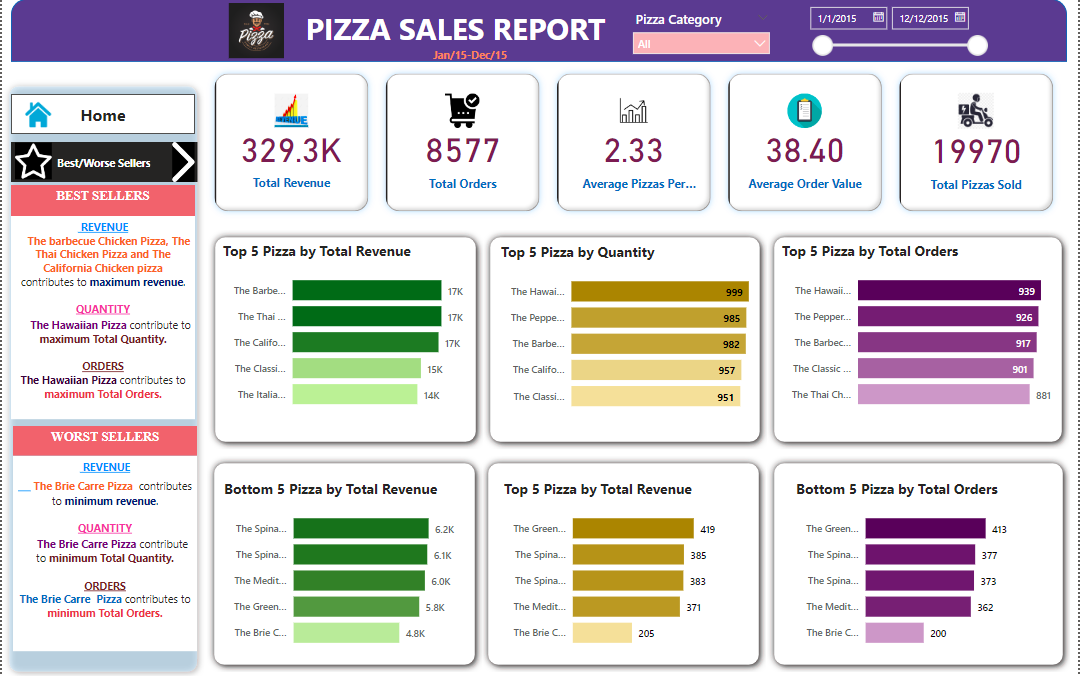

This screenshot's page, from the dashboard's own definition file:
{"tool":"powerbi","page":{"name":"Best/Worse Sellers","canvas":[1345,850],"ordinal":1},"visuals":[{"type":"cardVisual","fields":{"Data":["Measure Table.Total Revenue","Measure Table.Total Orders","Measure Table.Average Pizzas Per Order","Measure Table.Average Order Value","Measure Table.Total Pizzas Sold"]},"box":[248.6,75.7,1082.9,204.3],"z":0},{"type":"shape","box":[11.4,0,1320,78.6],"z":1000},{"type":"textbox","box":[344,6,446,66],"z":2000},{"type":"textbox","box":[521.4,55.7,127.1,38.6],"z":3000},{"type":"image","box":[272.9,0,91.4,78.6],"z":4000},{"type":"shape","box":[0,100,252.9,750],"z":5000},{"type":"shape","box":[257.1,288.6,344.3,257.1],"z":6000},{"type":"shape","box":[601.4,285.7,354.3,257.1],"z":7000},{"type":"shape","box":[955.7,285.7,378.6,257.1],"z":8000},{"type":"textbox","box":[11.4,232.9,230,38.6],"z":9000},{"type":"textbox","box":[11.4,271.4,230,254.3],"z":10000},{"type":"textbox","box":[14.3,534.3,230,37.1],"z":11000},{"type":"textbox","box":[14.3,571.4,230,244.3],"z":12000},{"type":"slicer","fields":{"Values":["pizza_sales.pizza_category"]},"box":[779,8.6,191.4,66.7],"z":13000},{"type":"slicer","fields":{"Values":["pizza_sales.order_date"]},"box":[997.5,0,243.2,85.2],"z":14000},{"type":"shape","box":[255.7,542.9,344.3,257.1],"z":15000},{"type":"shape","box":[955.7,542.9,362.9,257.1],"z":16000},{"type":"shape","box":[600,542.9,355.7,257.1],"z":17000},{"type":"barChart","title":"Top 5 Pizza by Total Revenue","fields":{"Category":["pizza_sales.pizza_name"],"Y":["Measure Table.Total Revenue"]},"box":[271.4,302.9,314.3,222.9],"z":18000},{"type":"barChart","title":"Bottom 5 Pizza by Total Revenue","fields":{"Category":["pizza_sales.pizza_name"],"Y":["Measure Table.Total Revenue"]},"box":[272.9,558.6,314.3,224.3],"z":19000},{"type":"barChart","title":"Bottom 5 Pizza by Total Orders","fields":{"Category":["pizza_sales.pizza_name"],"Y":["Measure Table.Total Orders"]},"box":[982.9,558.6,314.3,224.3],"z":20000},{"type":"barChart","title":"Top 5 Pizza by Total Revenue","fields":{"Category":["pizza_sales.pizza_name"],"Y":["Sum(pizza_sales.quantity)"]},"box":[618.6,557.1,312.9,224.3],"z":21000},{"type":"barChart","title":"Top 5 Pizza by Quantity","fields":{"Category":["pizza_sales.pizza_name"],"Y":["Sum(pizza_sales.quantity)"]},"box":[618.6,304.3,320,224.3],"z":22000},{"type":"barChart","title":"Top 5 Pizza by Total Orders ","fields":{"Category":["pizza_sales.pizza_name"],"Y":["Measure Table.Total Orders"]},"box":[970,302.9,348.6,222.9],"z":23000},{"type":"pageNavigator","box":[11.4,178.6,232.9,50],"z":24000},{"type":"pageNavigator","box":[11.4,118.6,230,50],"z":25000},{"type":"image","box":[14.3,115.7,62.9,57.1],"z":26000},{"type":"image","box":[204,174,45,60],"z":27000},{"type":"image","box":[11,173,56,60],"z":28000}]}

Visuals, with their boxes in screenshot pixels (x1, y1, x2, y2), scaled from the page's 1345x850 canvas onto the 1081x676 screenshot:
cardVisual - Measure Table.Total Revenue x Measure Table.Total Orders: 200,60,1070,223
shape: 9,0,1070,63
textbox: 276,5,635,57
textbox: 419,44,521,75
image: 219,0,293,63
shape: 0,80,203,675
shape: 207,230,483,434
shape: 483,227,768,432
shape: 768,227,1072,432
textbox: 9,185,194,216
textbox: 9,216,194,418
textbox: 11,425,196,454
textbox: 11,454,196,649
slicer - pizza_sales.pizza_category: 626,7,780,60
slicer - pizza_sales.order_date: 802,0,997,68
shape: 206,432,482,636
shape: 768,432,1060,636
shape: 482,432,768,636
"Top 5 Pizza by Total Revenue" barChart: 218,241,471,418
"Bottom 5 Pizza by Total Revenue" barChart: 219,444,472,623
"Bottom 5 Pizza by Total Orders" barChart: 790,444,1043,623
"Top 5 Pizza by Total Revenue" barChart: 497,443,749,621
"Top 5 Pizza by Quantity" barChart: 497,242,754,420
"Top 5 Pizza by Total Orders " barChart: 780,241,1060,418
pageNavigator: 9,142,196,182
pageNavigator: 9,94,194,134
image: 11,92,62,137
image: 164,138,200,186
image: 9,138,54,185
